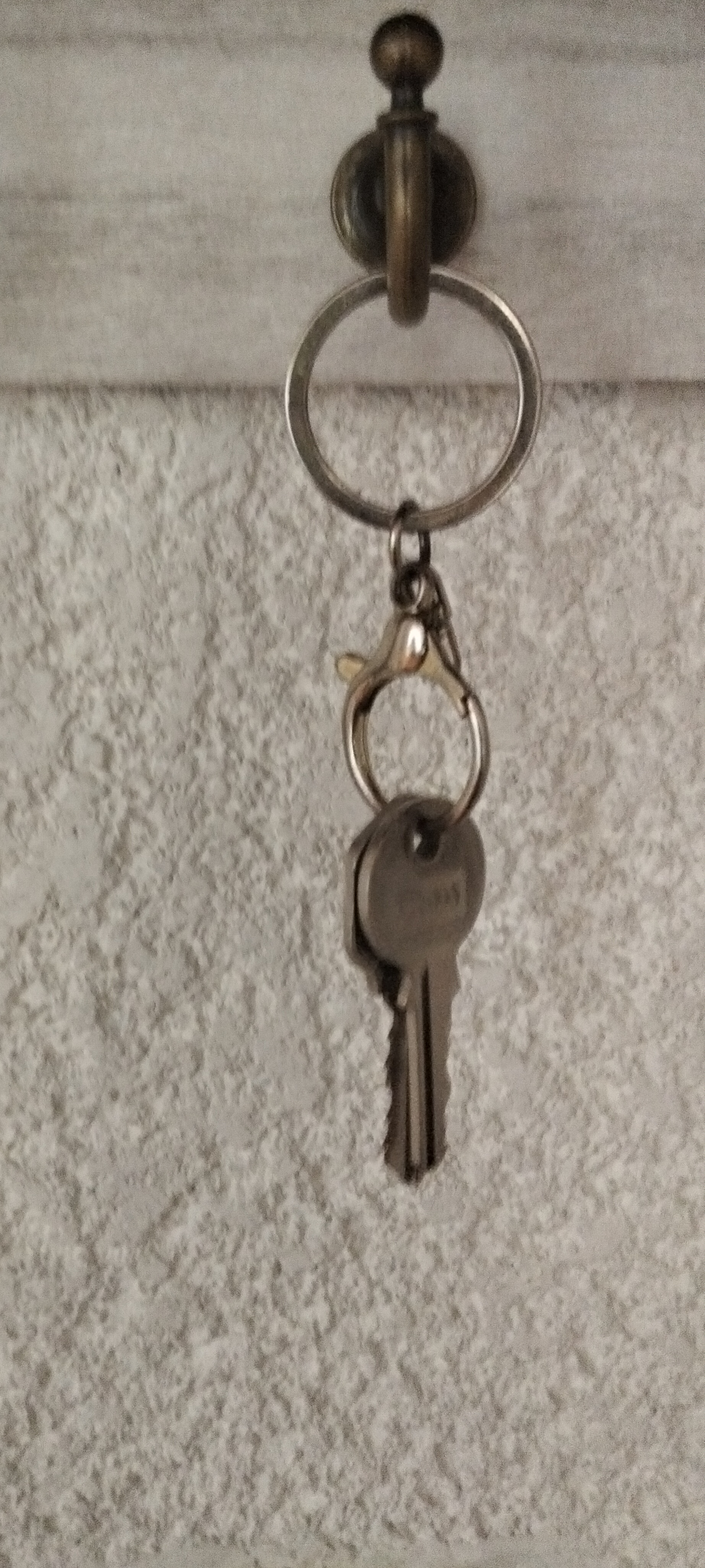llaves: (184, 266, 640, 1225)
